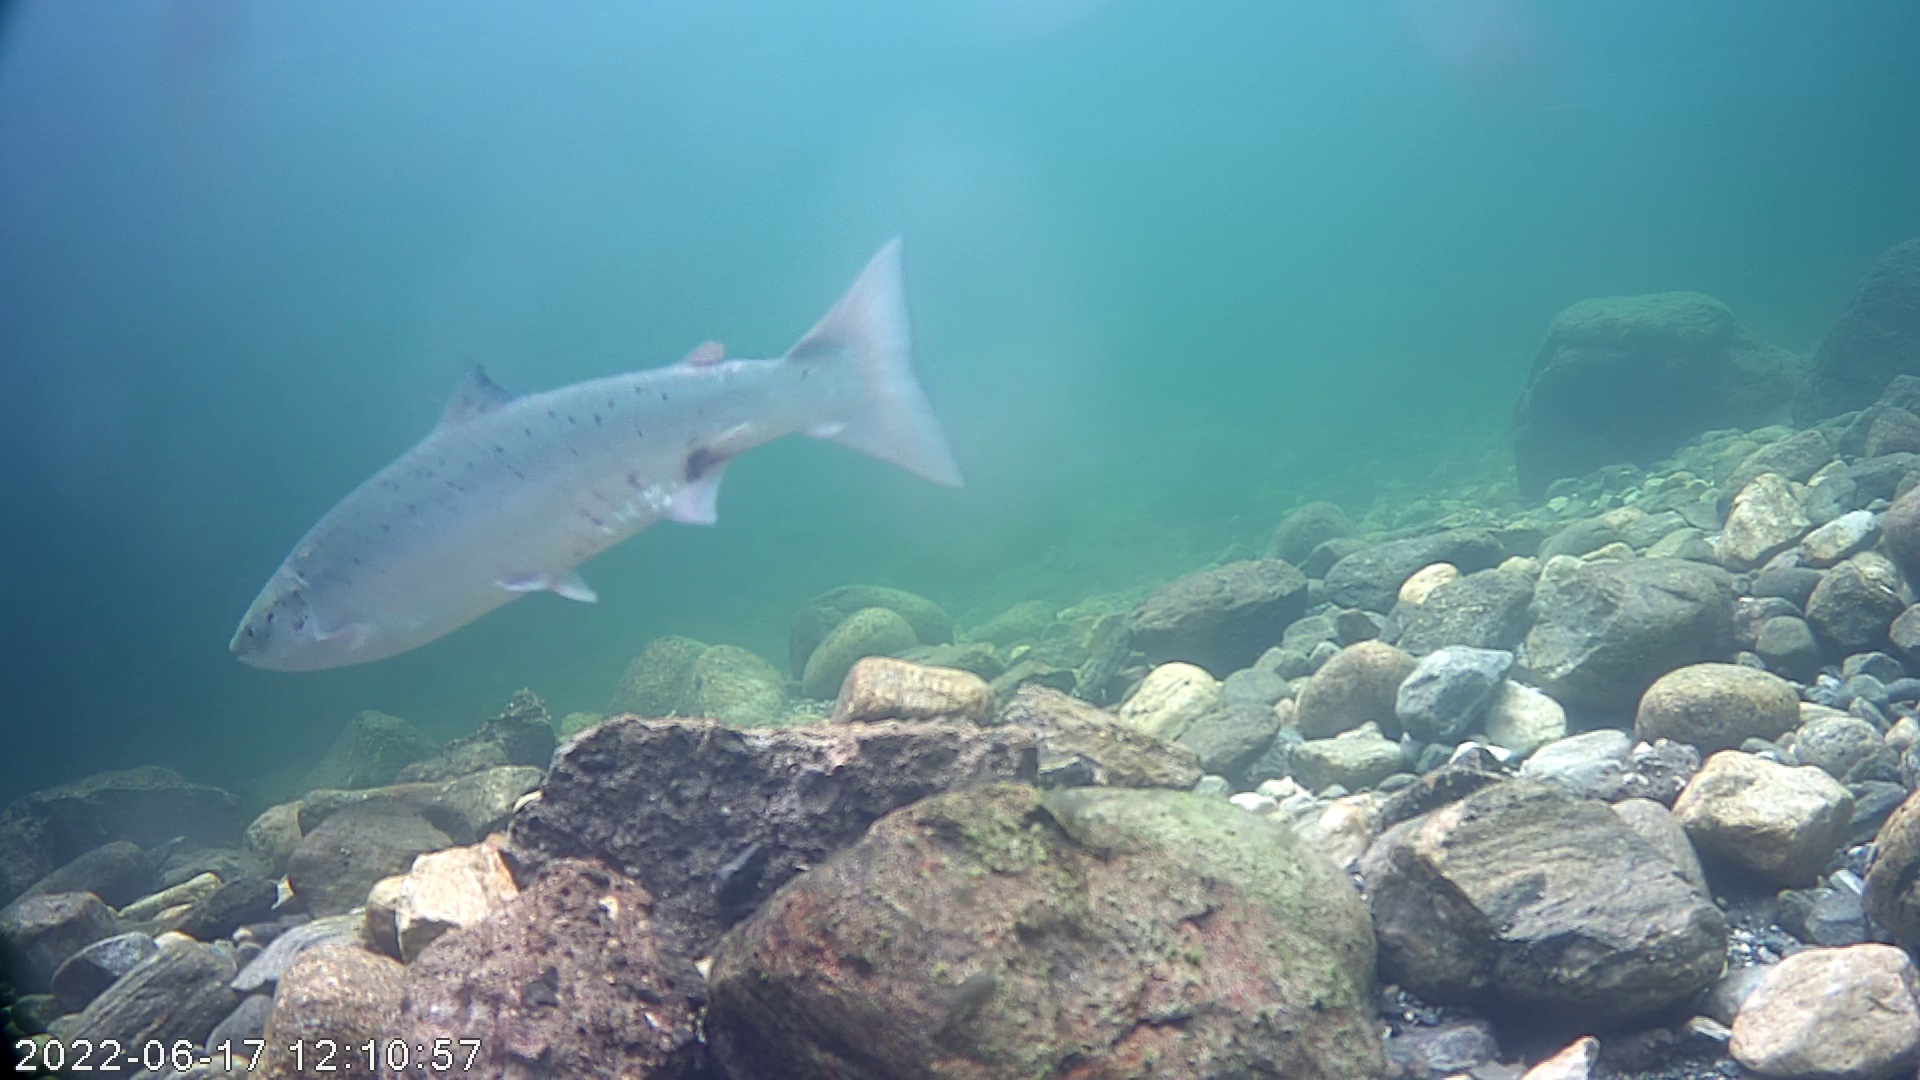salmon: (222, 232, 973, 675)
